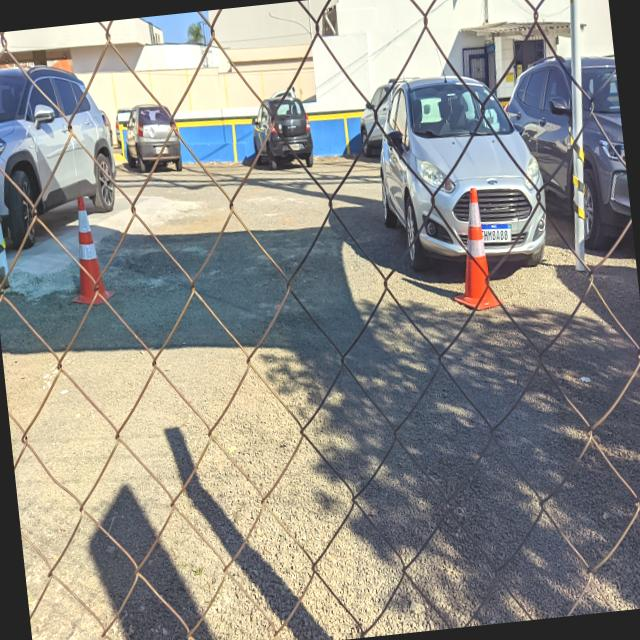cone: (440, 182, 506, 316), (59, 190, 118, 311)
